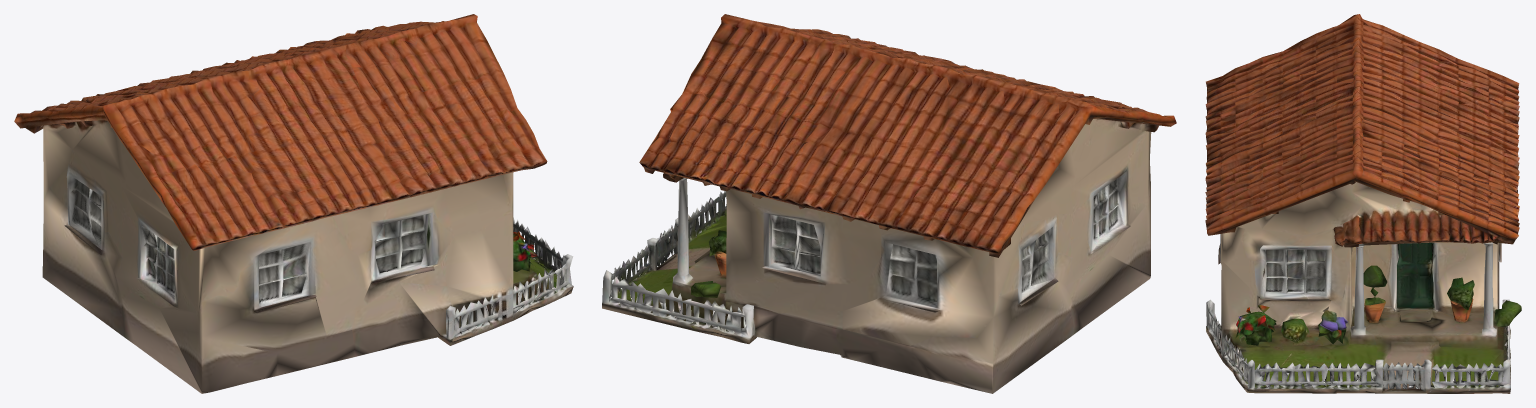
Rendered from casa-terrea.glb.
3 views of the same model, side by side, from view 1: azimuth 30°, elevation 25°; view 2: azimuth 150°, elevation 25°; view 3: azimuth 270°, elevation 25° (orthographic). The views are drawn at different scales.
Parts seen in each view (by area): view 1: tripo_node_a3d44d29-f702-4aa1-bde2-3583af052407; view 2: tripo_node_a3d44d29-f702-4aa1-bde2-3583af052407; view 3: tripo_node_a3d44d29-f702-4aa1-bde2-3583af052407.
Boxes of the visible parts, x1=… form: tripo_node_a3d44d29-f702-4aa1-bde2-3583af052407: x1=14, y1=14, x2=573, y2=393; tripo_node_a3d44d29-f702-4aa1-bde2-3583af052407: x1=602, y1=14, x2=1176, y2=393; tripo_node_a3d44d29-f702-4aa1-bde2-3583af052407: x1=1205, y1=14, x2=1521, y2=393.
Bounding box in the file's own units: 1.77 × 1 × 1.37.
Materials: 1 (1 with a texture image).
